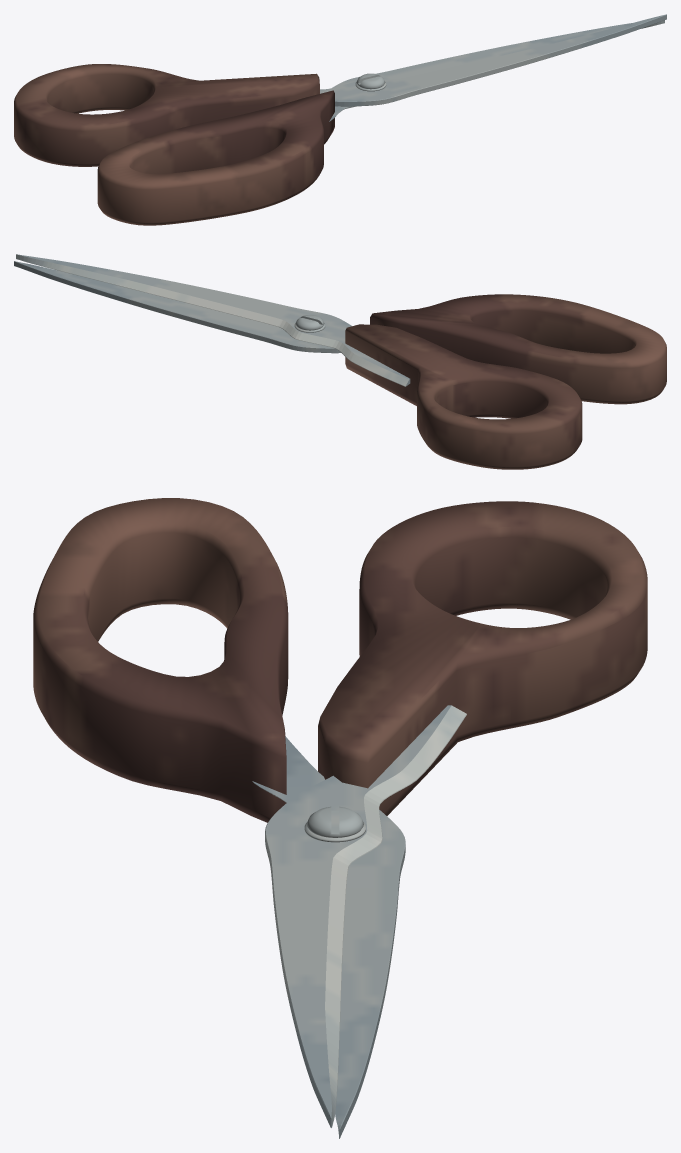
Rendered from Scissors_Model.fbx.
3 views of the same model, one above another, from view 1: azimuth 30°, elevation 25°; view 2: azimuth 150°, elevation 25°; view 3: azimuth 270°, elevation 25° (orthographic). The views are drawn at different scales.
Visible parts, largest first — view 1: TT_Scissors_M45_Scissors__SCISSORS_Finger_Grip_With_Neck, TT_Scissors_M45_Scissors__SCISSORS_Thumb_Grip_With_Neck, TT_Scissors_M45_Scissors__SCISSORS_Thumb_Upper_Blade, TT_Scissors_M45_Scissors__SCISSORS_Finger_Lower_Blade, TT_Scissors_M45_Scissors__SCISSORS_Slotted_Pivot_Screw; view 2: TT_Scissors_M45_Scissors__SCISSORS_Thumb_Grip_With_Neck, TT_Scissors_M45_Scissors__SCISSORS_Finger_Grip_With_Neck, TT_Scissors_M45_Scissors__SCISSORS_Thumb_Upper_Blade, TT_Scissors_M45_Scissors__SCISSORS_Finger_Lower_Blade, TT_Scissors_M45_Scissors__SCISSORS_Slotted_Pivot_Screw; view 3: TT_Scissors_M45_Scissors__SCISSORS_Thumb_Grip_With_Neck, TT_Scissors_M45_Scissors__SCISSORS_Finger_Grip_With_Neck, TT_Scissors_M45_Scissors__SCISSORS_Thumb_Upper_Blade, TT_Scissors_M45_Scissors__SCISSORS_Finger_Lower_Blade, TT_Scissors_M45_Scissors__SCISSORS_Slotted_Pivot_Screw.
Boxes of the visible parts, bbox=[...] form: TT_Scissors_M45_Scissors__SCISSORS_Finger_Grip_With_Neck: bbox=[97, 90, 334, 225]; TT_Scissors_M45_Scissors__SCISSORS_Thumb_Grip_With_Neck: bbox=[14, 64, 319, 166]; TT_Scissors_M45_Scissors__SCISSORS_Thumb_Upper_Blade: bbox=[320, 14, 666, 106]; TT_Scissors_M45_Scissors__SCISSORS_Finger_Lower_Blade: bbox=[329, 20, 664, 121]; TT_Scissors_M45_Scissors__SCISSORS_Slotted_Pivot_Screw: bbox=[356, 73, 385, 89]; TT_Scissors_M45_Scissors__SCISSORS_Thumb_Grip_With_Neck: bbox=[345, 324, 582, 469]; TT_Scissors_M45_Scissors__SCISSORS_Finger_Grip_With_Neck: bbox=[370, 294, 666, 404]; TT_Scissors_M45_Scissors__SCISSORS_Thumb_Upper_Blade: bbox=[16, 254, 410, 386]; TT_Scissors_M45_Scissors__SCISSORS_Finger_Lower_Blade: bbox=[14, 261, 340, 353]; TT_Scissors_M45_Scissors__SCISSORS_Slotted_Pivot_Screw: bbox=[295, 315, 324, 330]; TT_Scissors_M45_Scissors__SCISSORS_Thumb_Grip_With_Neck: bbox=[318, 501, 647, 815]; TT_Scissors_M45_Scissors__SCISSORS_Finger_Grip_With_Neck: bbox=[33, 498, 288, 822]; TT_Scissors_M45_Scissors__SCISSORS_Thumb_Upper_Blade: bbox=[265, 705, 466, 1127]; TT_Scissors_M45_Scissors__SCISSORS_Finger_Lower_Blade: bbox=[252, 736, 405, 1138]; TT_Scissors_M45_Scissors__SCISSORS_Slotted_Pivot_Screw: bbox=[306, 806, 363, 837].
Bounding box in the file's own units: 127 × 8.2 × 55.95.
Materials: 5 (5 with a texture image).
